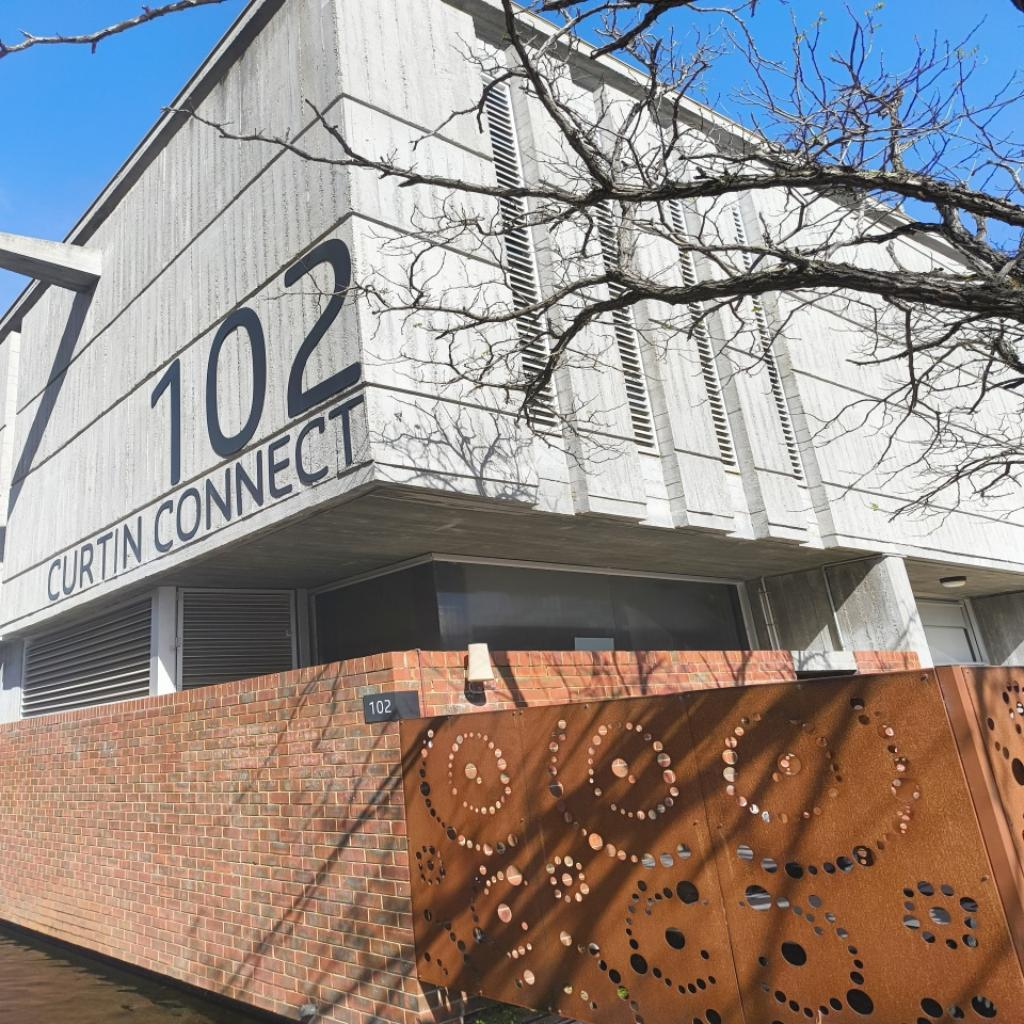BuildingCodes: (143, 228, 369, 496)
